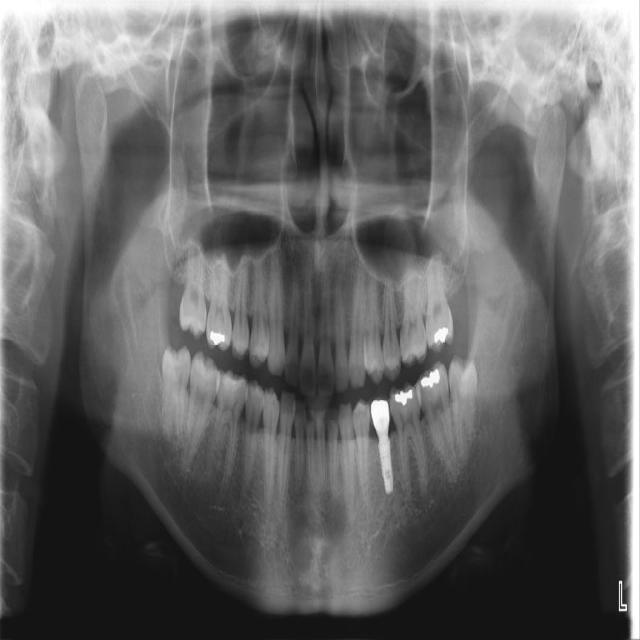Crown: (371, 402, 389, 431)
Filling: (429, 320, 448, 345), (420, 369, 441, 390), (393, 388, 415, 407), (209, 328, 229, 346)
Implant: (380, 443, 393, 494)
Periapical lesion: (412, 477, 441, 510), (332, 270, 346, 292), (293, 475, 304, 496), (398, 483, 408, 498), (383, 272, 393, 281)
impacted tooth: (160, 347, 191, 454), (447, 359, 477, 468)
